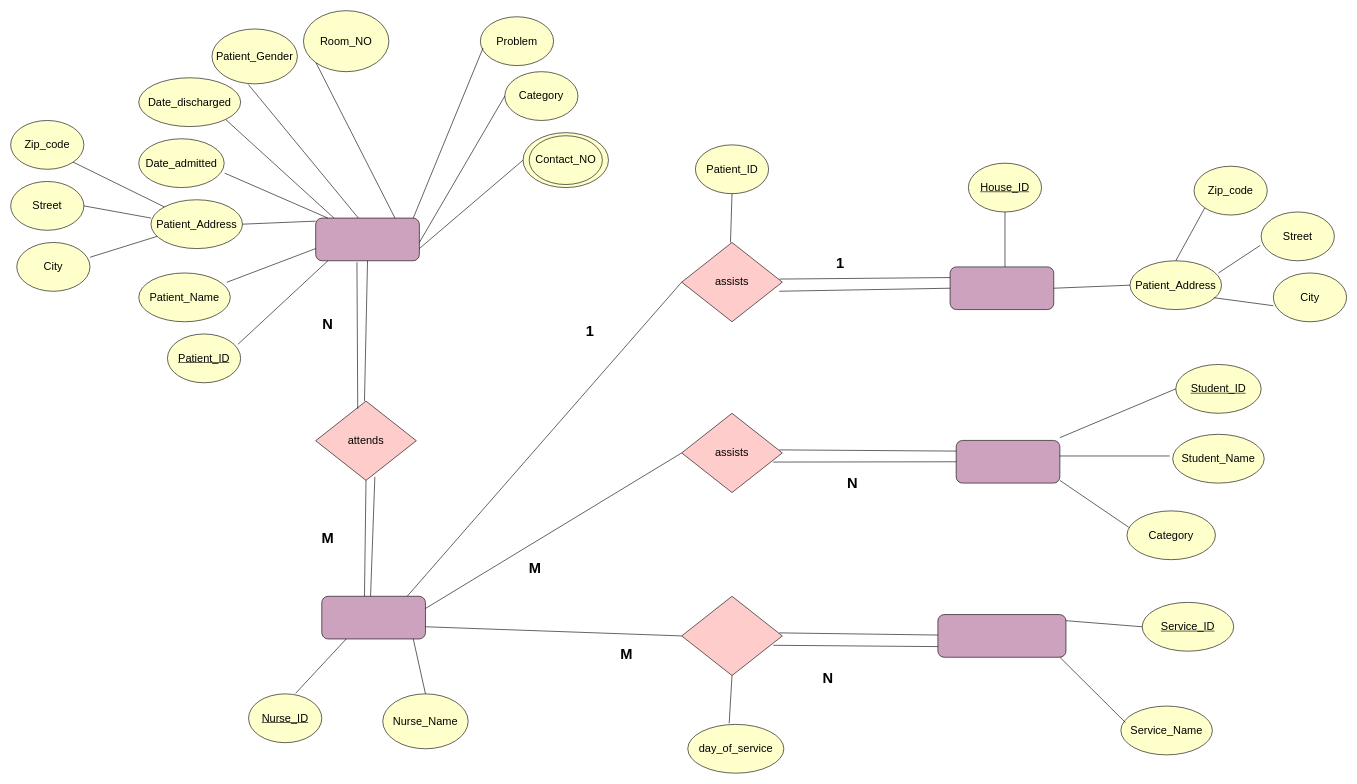
Some shapes in this 1357 by 784 pixel diagram are drawn without their labels. Each missing label, with the centre of its shape:
Houses: the point at 1001,288
Nurses: the point at 373,617
Patients: the point at 367,239
serves: the point at 731,636
Social Services: the point at 1001,635
Students: the point at 1008,461
